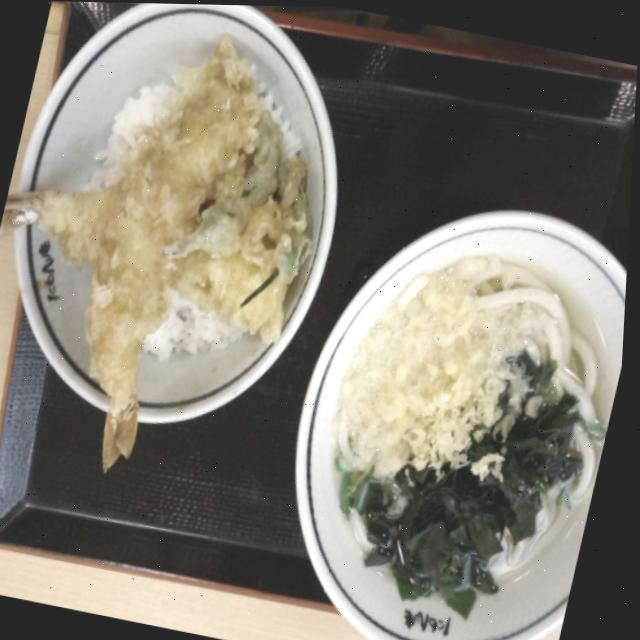熟制海鲜: (0, 0, 390, 519)
面条主食: (256, 171, 633, 640)
